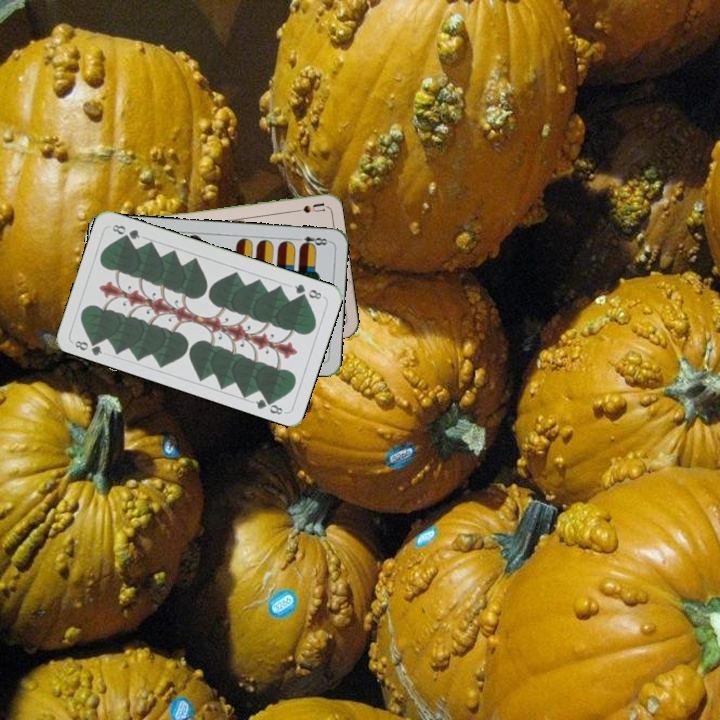E8: (291, 232, 332, 250)
G8: (71, 334, 105, 358), (290, 280, 324, 302)
SU: (286, 199, 327, 215)
